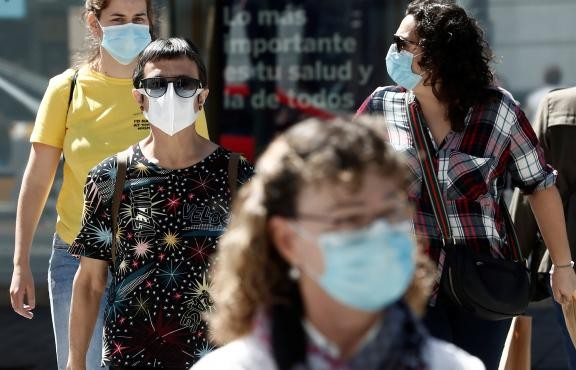with_mask: (283, 155, 424, 316), (138, 46, 212, 150), (376, 8, 447, 96), (83, 2, 154, 66)
